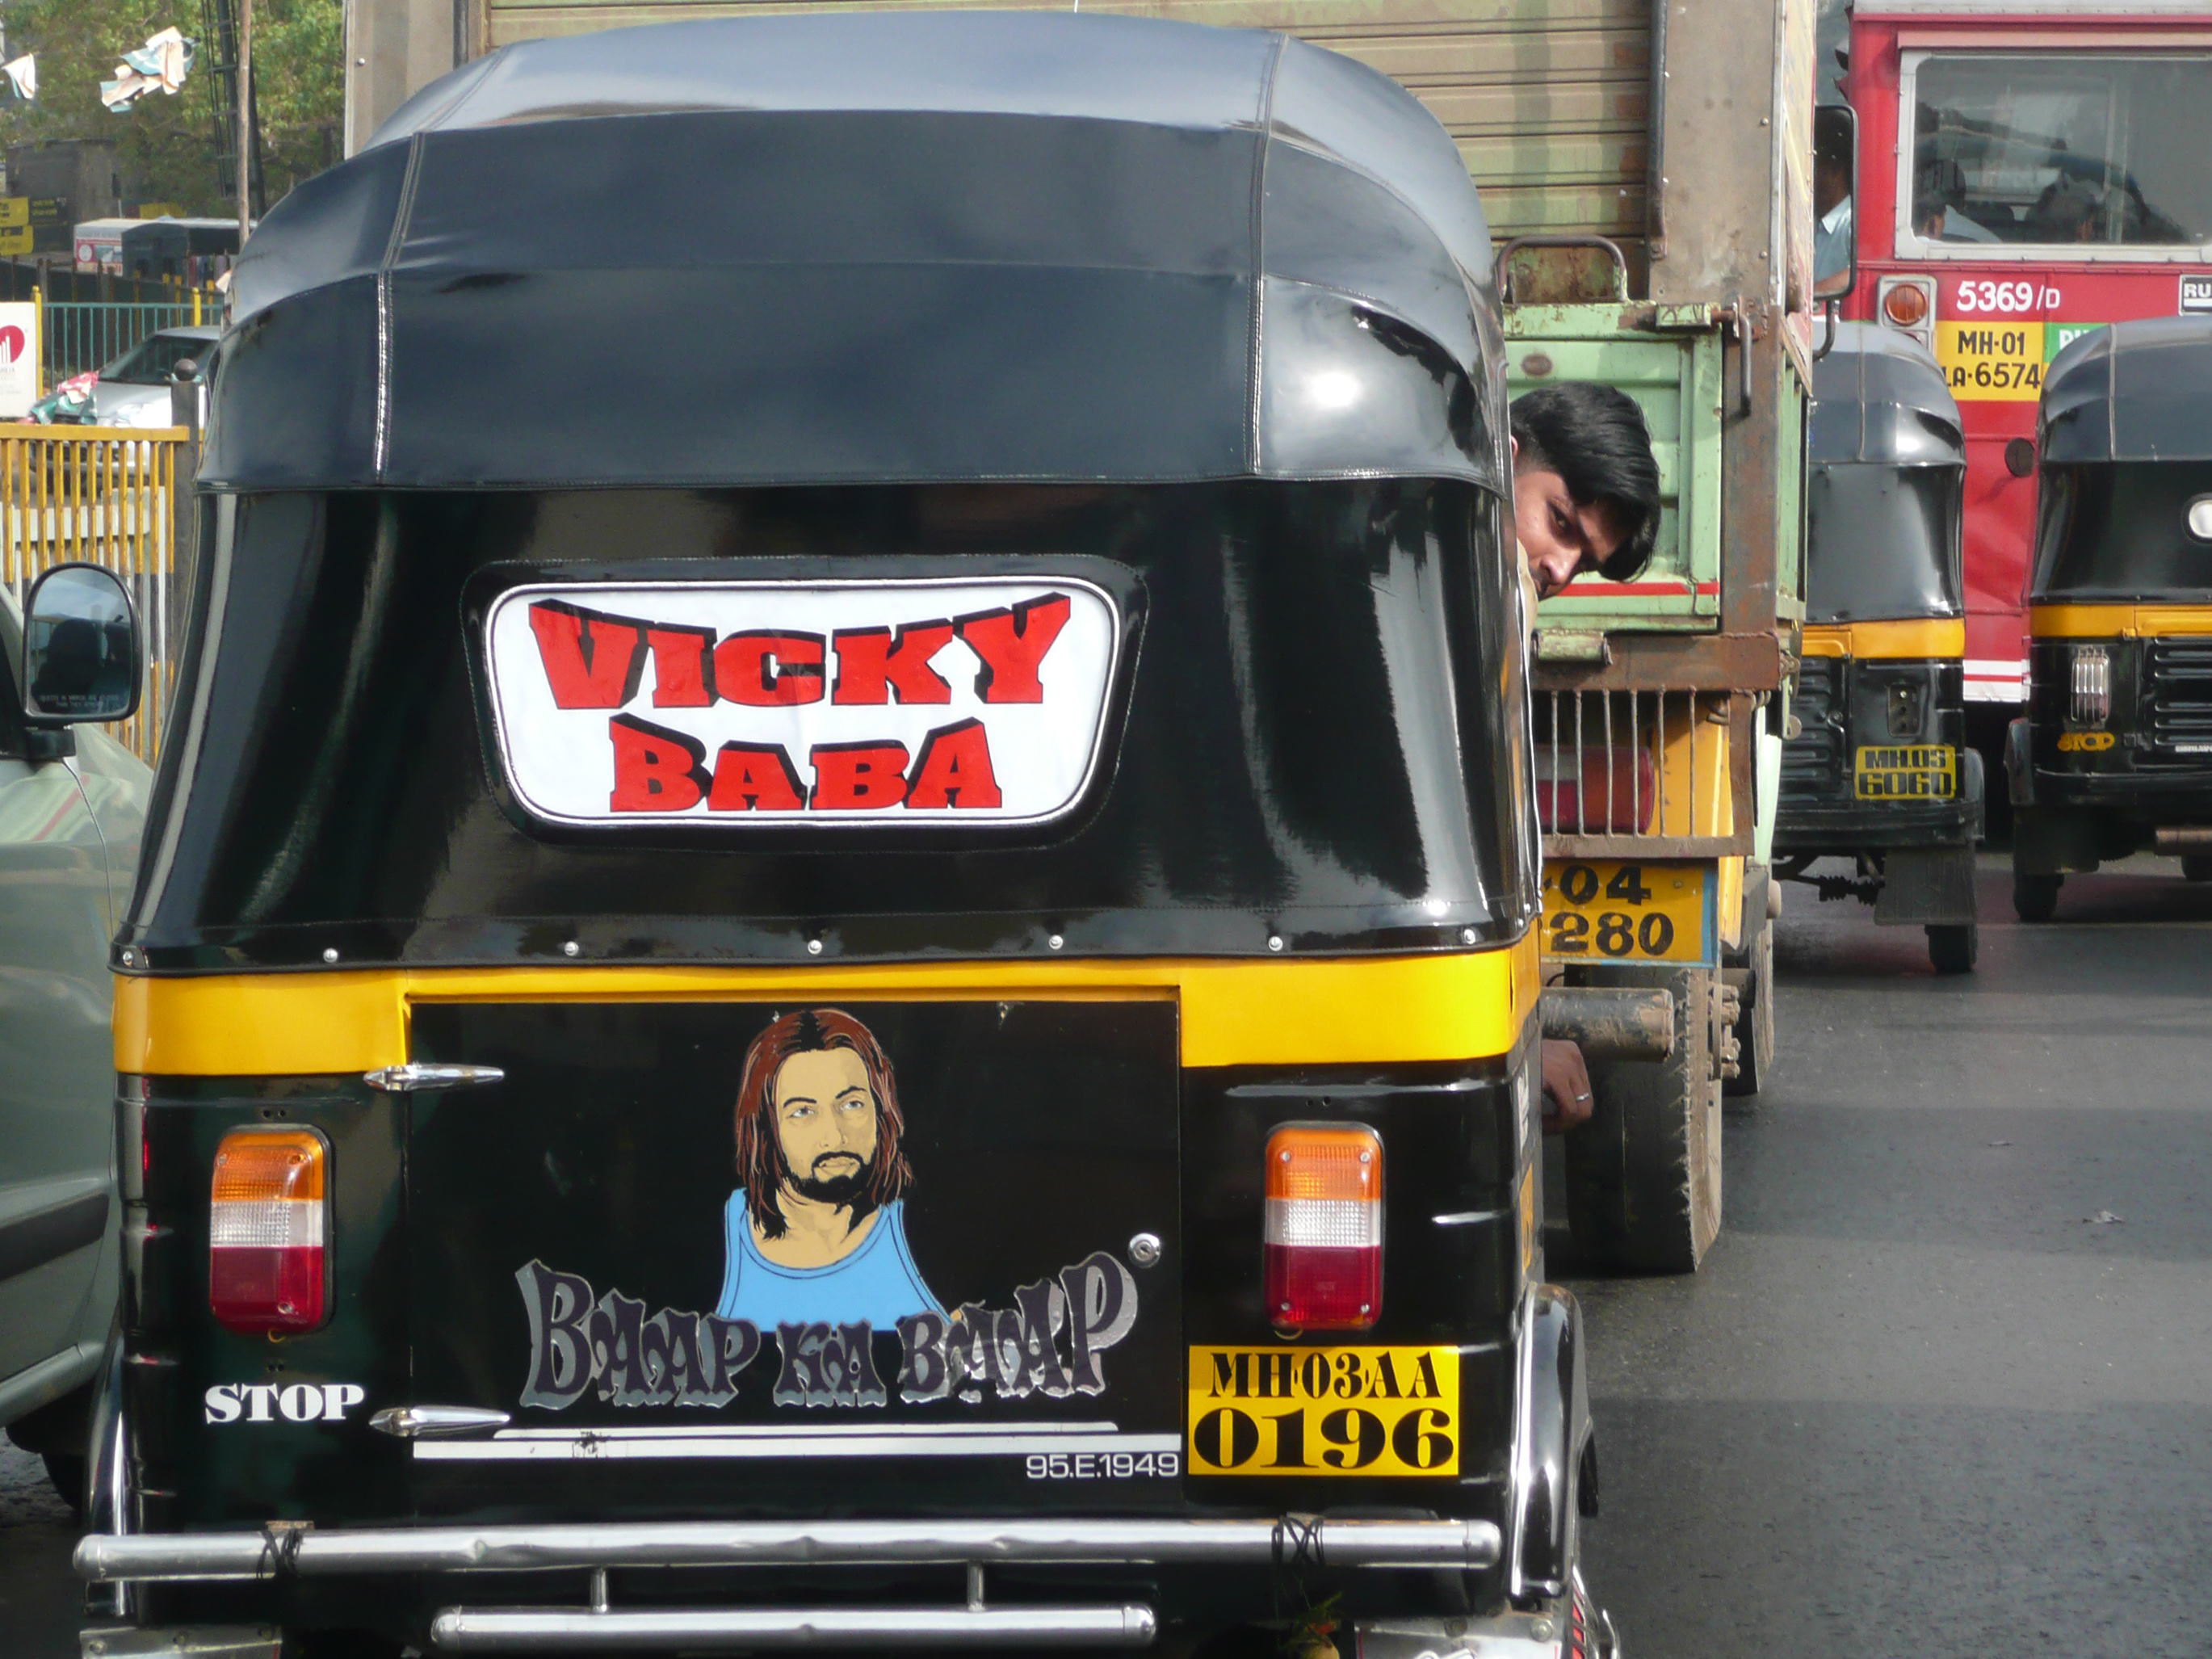doublelinenumberplate: (1186, 1341, 1466, 1478), (1935, 313, 2046, 400)
